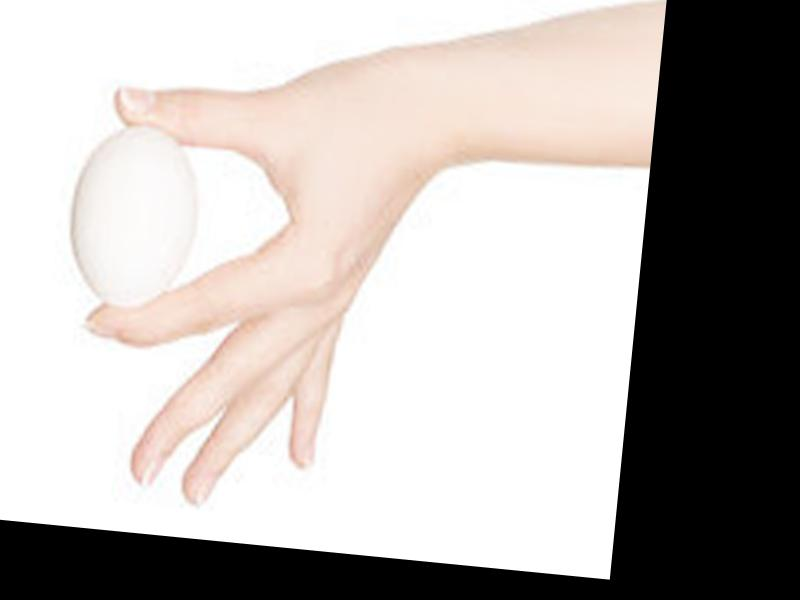Eggs: (59, 119, 206, 315)
